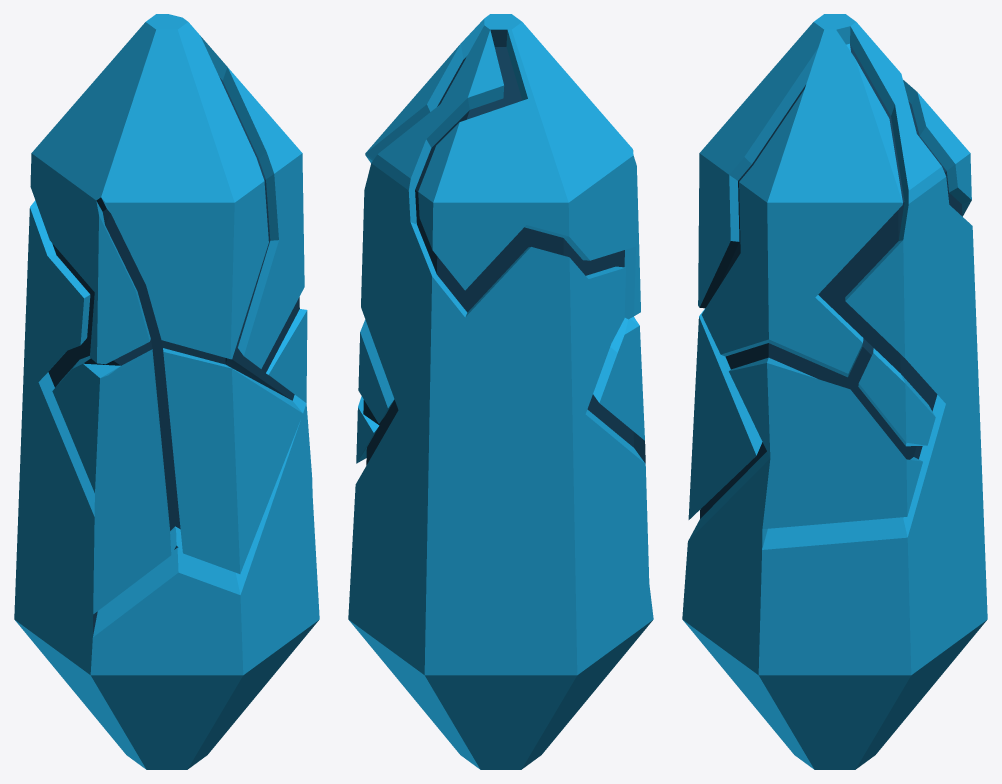
The model's file is Сломанный мелок 1.fbx.
3 views of the same model, side by side, from view 1: azimuth 30°, elevation 25°; view 2: azimuth 150°, elevation 25°; view 3: azimuth 270°, elevation 25° (orthographic).
Parts seen in each view (by area): view 1: Circle.003; view 2: Circle.003; view 3: Circle.003.
Part boxes in pixels (<box>): Circle.003: <box>14,14,319,769</box>; Circle.003: <box>348,14,653,769</box>; Circle.003: <box>682,14,987,769</box>.
Bounding box in the file's own units: 213 × 650 × 246.
